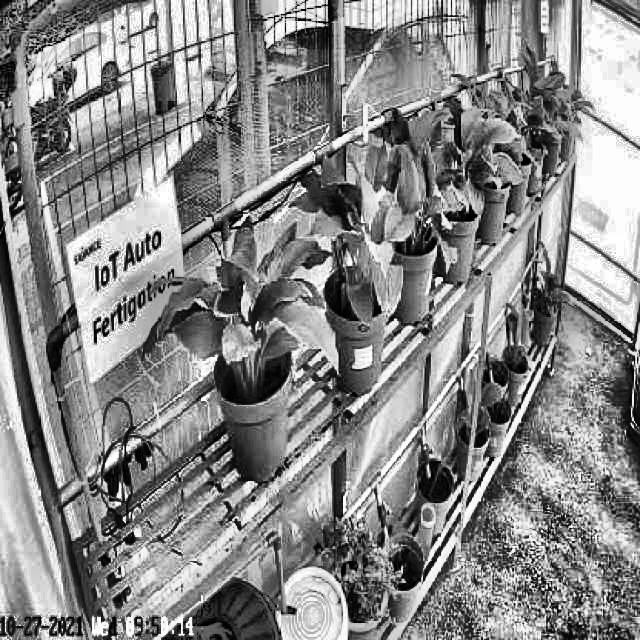plants: (142, 216, 340, 398), (288, 174, 410, 326), (352, 128, 460, 286), (405, 108, 527, 208)
